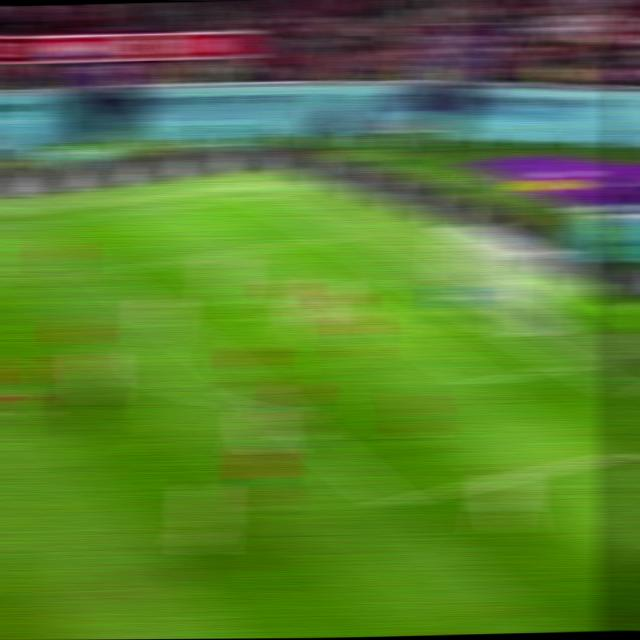bigarea_bottom_inner: (375, 488, 414, 516)
bigarea_top_inner: (89, 263, 120, 280)
bigarea_top_outter: (317, 231, 347, 243)
bottom_arc_area_intersection: (262, 400, 294, 414)
corner: (238, 193, 268, 200)
smallarea_bottom_inner: (465, 371, 502, 391)
smallarea_bottom_outter: (555, 356, 589, 372)
smallarea_top_inner: (323, 285, 354, 298)
smallarea_top_outter: (392, 270, 422, 284)
top_arc_area_intersection: (157, 318, 189, 334)
